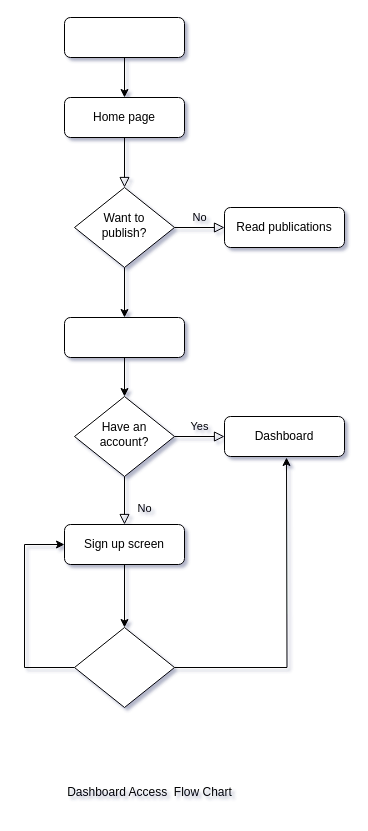
Some shapes in this 368 by 831 pixel diagram are drawn without their labels. The shapes that lost their labels are listed below. From the top down, each one's box as (x1, y1, x2, y2) in pixels, then its label:
(64, 16, 184, 58): Start
(64, 316, 184, 358): Login
(74, 626, 174, 708): Signup successful?
